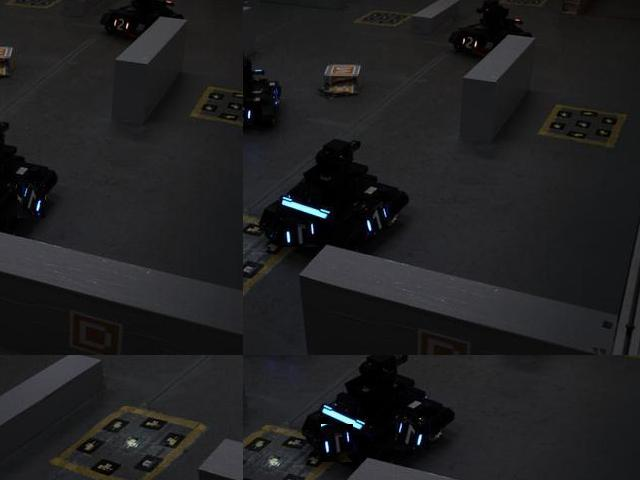armor: (321, 424, 354, 463), (280, 218, 321, 248), (396, 418, 431, 451), (18, 183, 47, 219), (362, 205, 393, 238), (111, 12, 132, 36), (243, 98, 257, 127), (459, 32, 479, 52)
